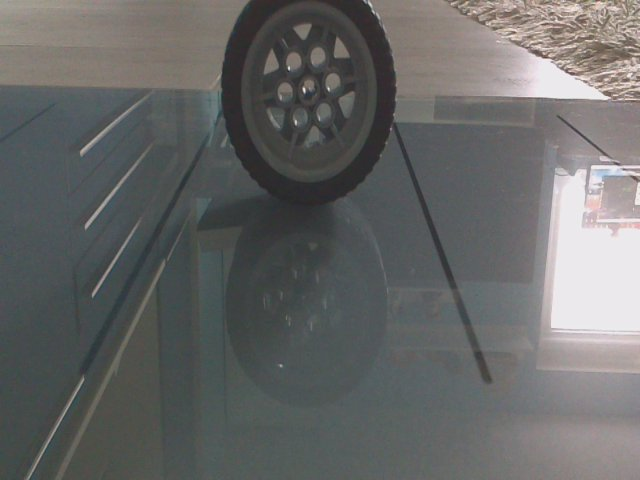Rad: (216, 4, 401, 212)
